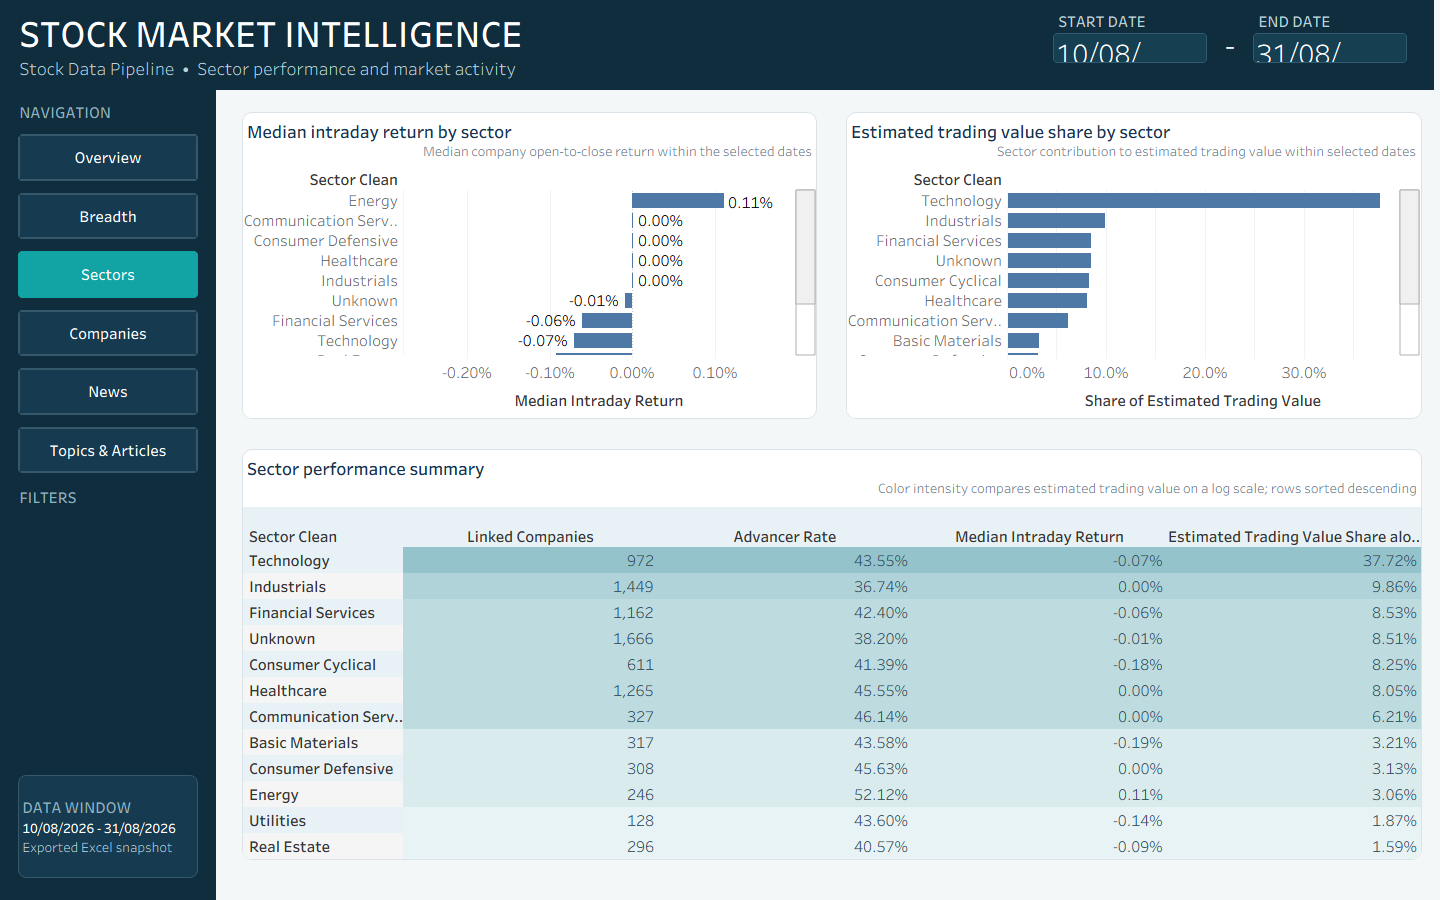

This screenshot's page, from the dashboard's own definition file:
{"tool":"tableau","page":{"name":"03. Sector Analysis","canvas":[1440,900],"ordinal":2},"visuals":[{"type":"blank","box":[0,0,1440,900]},{"type":"text","box":[0,0,1434,90]},{"type":"text","box":[1055,10,150,22]},{"type":"text","box":[1255,10,160,22]},{"type":"parameter","param":"[Parameters].[Parameter 1300762280890369]","box":[1050,30,160,36]},{"type":"text","box":[1176,30,108,28]},{"type":"parameter","param":"[Parameters].[Parameter 1300762280984578]","box":[1250,30,160,36]},{"type":"blank","box":[0,90,216,810]},{"type":"text","box":[14.4,99,187.2,27]},{"type":"worksheet","title":"Sector Median Return","mark":"Automatic","rows":["Calculation_SectorClean"],"cols":["Calculation_DailyReturn"],"box":[237.6,108,583.2,315]},{"type":"worksheet","title":"Sector Trading Activity","mark":"Bar","rows":["Calculation_SectorClean"],"box":[842.4,108,583.2,315]},{"type":"dashboard-object","box":[14.4,130.5,187.2,54]},{"type":"dashboard-object","box":[14.4,189,187.2,54]},{"type":"dashboard-object","box":[14.4,247.5,187.2,54]},{"type":"dashboard-object","box":[14.4,306,187.2,54]},{"type":"dashboard-object","box":[14.4,364.5,187.2,54]},{"type":"dashboard-object","box":[14.4,423,187.2,54]},{"type":"worksheet","title":"Sector Summary Table","mark":"Square","rows":["Calculation_SectorClean"],"box":[237.6,445.5,1188,418.5]},{"type":"text","box":[14.4,486,187.2,22.5]},{"type":"text","box":[14,771,188,111]},{"type":"text","box":[15,809,172,38]}]}

Visuals, with their boxes in screenshot pixels (x1, y1, x2, y2), scaled from the page's 1440x900 canvas onto the 1440x900 screenshot:
blank: {"left": 0, "top": 0, "right": 1439, "bottom": 899}
text: {"left": 0, "top": 0, "right": 1434, "bottom": 90}
text: {"left": 1055, "top": 10, "right": 1205, "bottom": 32}
text: {"left": 1255, "top": 10, "right": 1415, "bottom": 32}
parameter: {"left": 1050, "top": 30, "right": 1210, "bottom": 66}
text: {"left": 1176, "top": 30, "right": 1284, "bottom": 58}
parameter: {"left": 1250, "top": 30, "right": 1410, "bottom": 66}
blank: {"left": 0, "top": 90, "right": 216, "bottom": 899}
text: {"left": 14, "top": 99, "right": 202, "bottom": 126}
"Sector Median Return" worksheet: {"left": 238, "top": 108, "right": 821, "bottom": 423}
"Sector Trading Activity" worksheet (Bar marks): {"left": 842, "top": 108, "right": 1426, "bottom": 423}
dashboard-object: {"left": 14, "top": 130, "right": 202, "bottom": 184}
dashboard-object: {"left": 14, "top": 189, "right": 202, "bottom": 243}
dashboard-object: {"left": 14, "top": 248, "right": 202, "bottom": 302}
dashboard-object: {"left": 14, "top": 306, "right": 202, "bottom": 360}
dashboard-object: {"left": 14, "top": 364, "right": 202, "bottom": 418}
dashboard-object: {"left": 14, "top": 423, "right": 202, "bottom": 477}
"Sector Summary Table" worksheet (Square marks): {"left": 238, "top": 446, "right": 1426, "bottom": 864}
text: {"left": 14, "top": 486, "right": 202, "bottom": 508}
text: {"left": 14, "top": 771, "right": 202, "bottom": 882}
text: {"left": 15, "top": 809, "right": 187, "bottom": 847}
